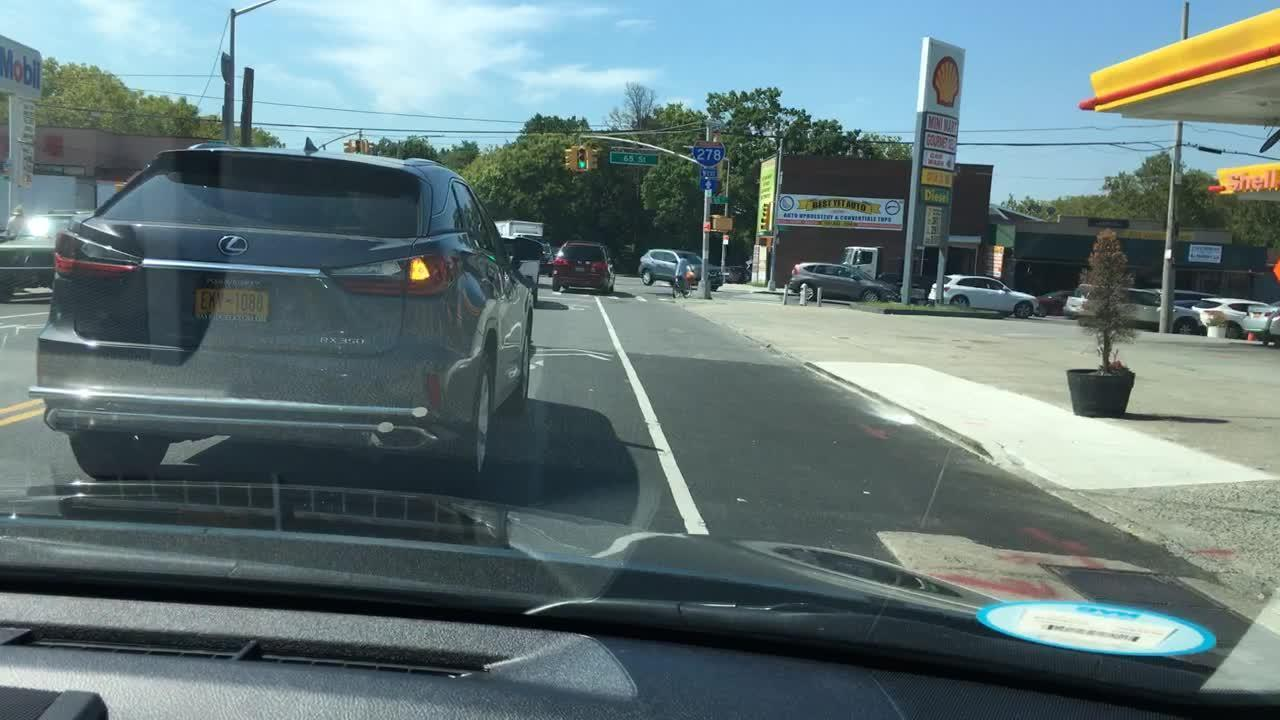lexus: (209, 232, 258, 262)
